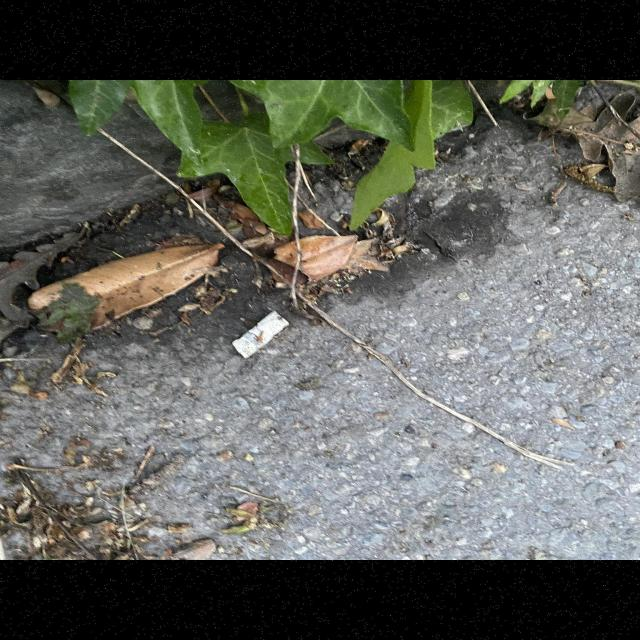other waste: (230, 310, 289, 359)
